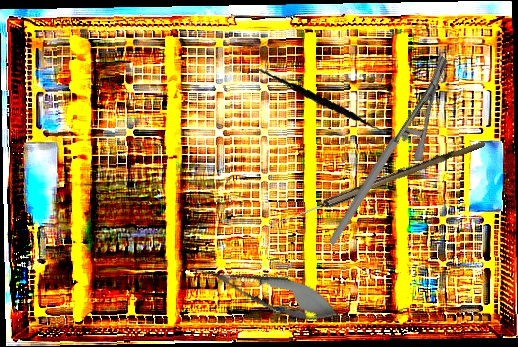Micro Scissor: (185, 249, 346, 333)
Needle Holder: (282, 54, 493, 247)
Spatula Surgical: (246, 53, 395, 151)
Surgical Spoon: (265, 135, 486, 234)
